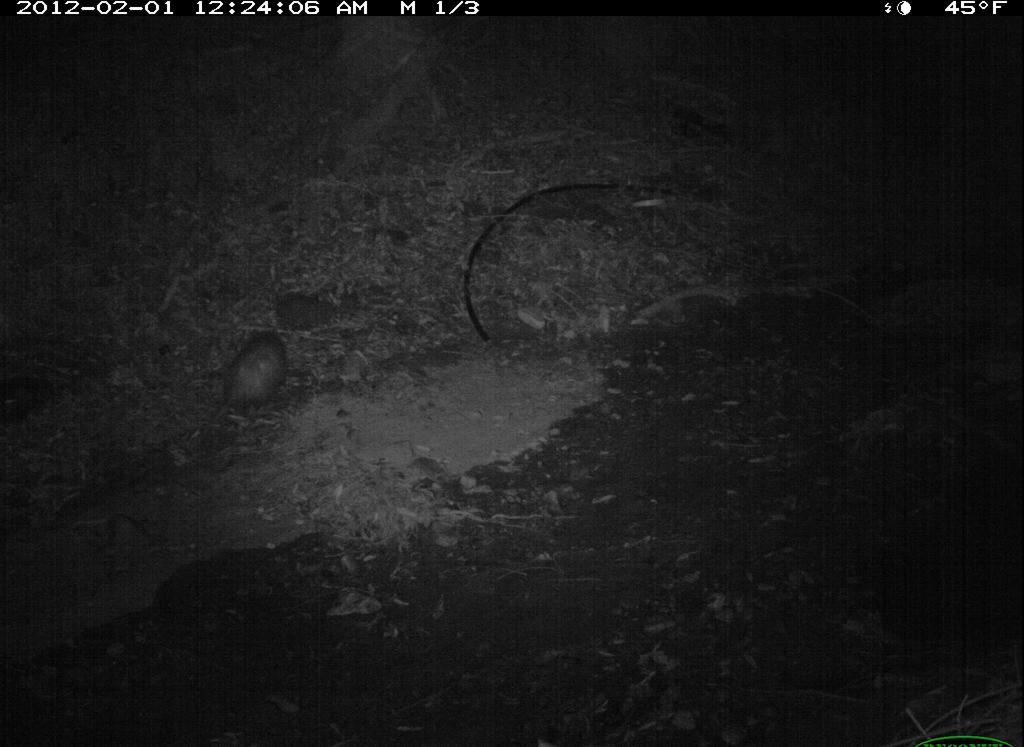opossum: (203, 326, 295, 429)
